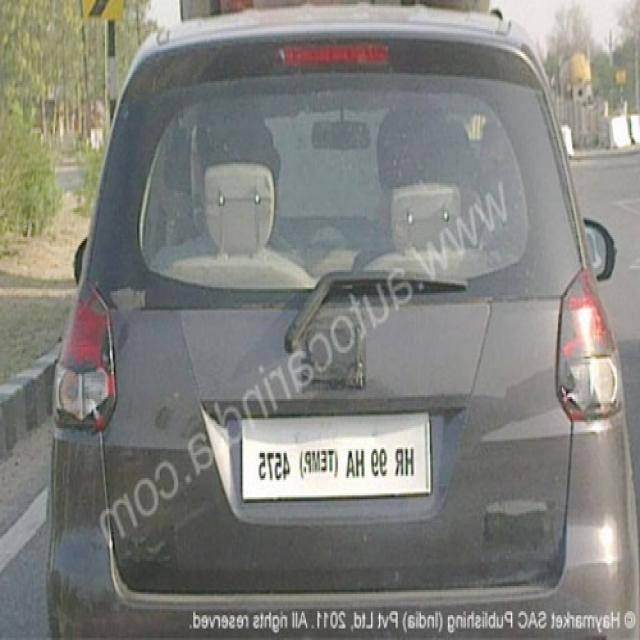number-plate: (240, 419, 432, 494)
